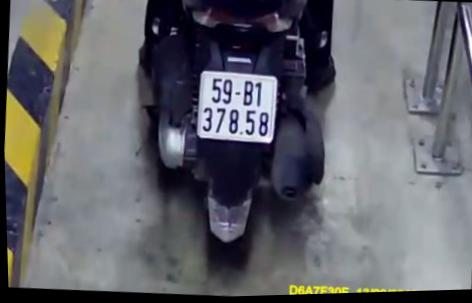LP: (193, 68, 280, 149)
